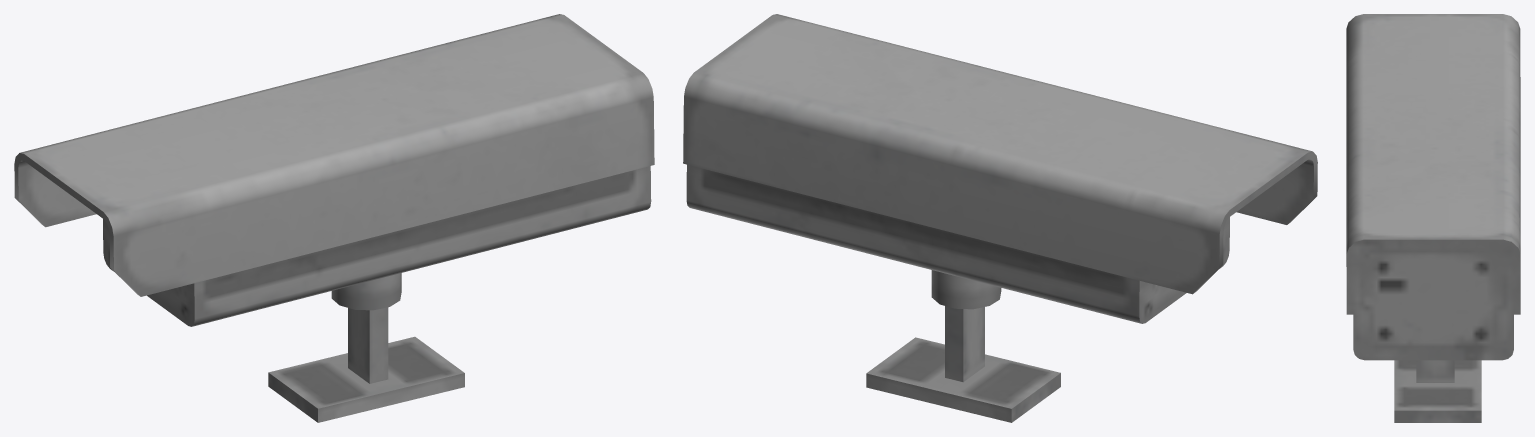
File: HH_Security_Camera_02.fbx
3 renders of one model, left to right at view 1: azimuth 30°, elevation 25°; view 2: azimuth 150°, elevation 25°; view 3: azimuth 270°, elevation 25°, orthographic. The views are drawn at different scales.
Parts seen in each view (by area): view 1: HH_Security_Camera_02_LOD0; view 2: HH_Security_Camera_02_LOD0; view 3: HH_Security_Camera_02_LOD0.
Part boxes in pixels (bbox=[...]): HH_Security_Camera_02_LOD0: bbox=[14, 14, 654, 422]; HH_Security_Camera_02_LOD0: bbox=[683, 14, 1317, 422]; HH_Security_Camera_02_LOD0: bbox=[1346, 14, 1520, 422].
Size of what is drawn, in the model's own units: 41.78 by 21.16 by 13.25.
